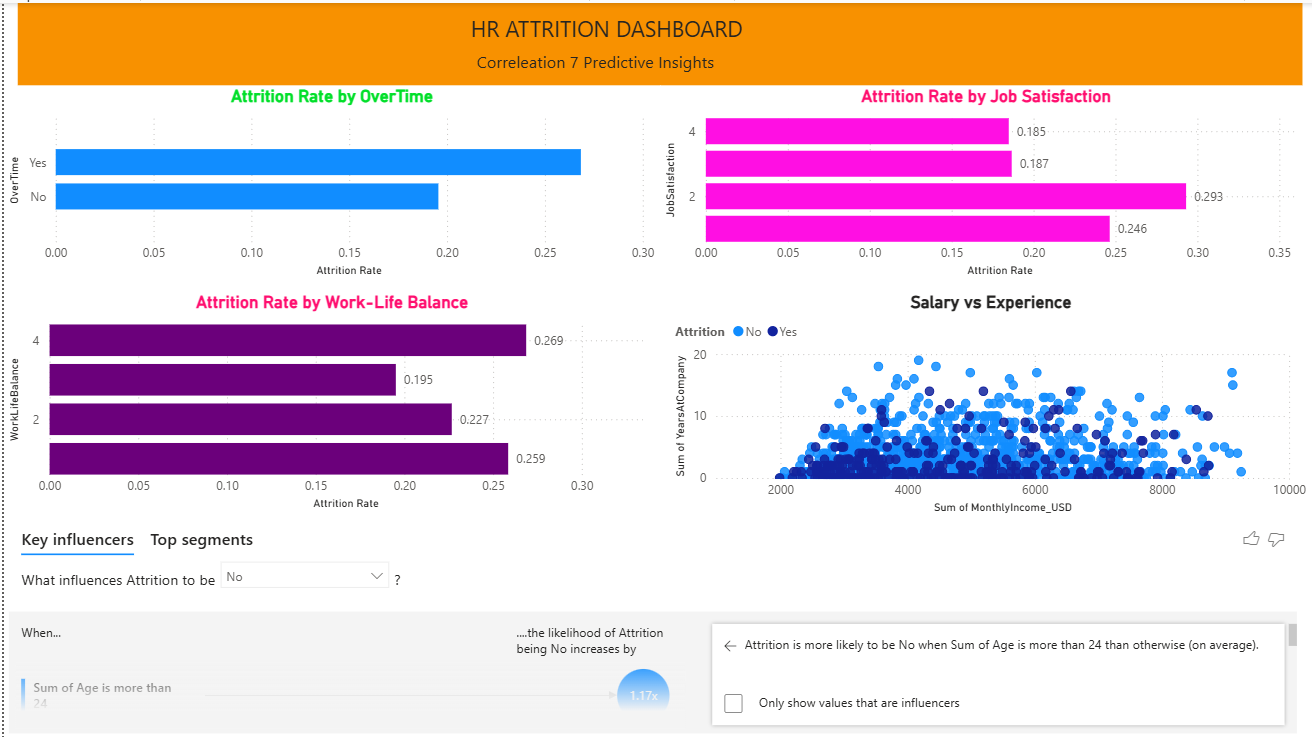

The page's visual inventory and layout, read from the dashboard file:
{"tool":"powerbi","page":{"name":"Correlation & Predictive Insights","canvas":[1280,720],"ordinal":2},"visuals":[{"type":"textbox","box":[13,0,1256.6,80.8],"z":0},{"type":"clusteredBarChart","title":"Attrition Rate by OverTime","fields":{"Category":["EmployeeData.OverTime"],"Y":["EmployeeData.Attrition Rate"]},"box":[0,80.8,642,191.9],"z":1000},{"type":"clusteredBarChart","title":"Attrition Rate by Job Satisfaction","fields":{"Y":["EmployeeData.Attrition Rate"],"Category":["EmployeeData.JobSatisfaction"]},"box":[642,80.8,637.7,191.9],"z":2000},{"type":"clusteredBarChart","title":"Attrition Rate by Work-Life Balance","fields":{"Y":["EmployeeData.Attrition Rate"],"Category":["EmployeeData.WorkLifeBalance"]},"box":[0,282.8,642,217.9],"z":3000},{"type":"scatterChart","title":"Salary vs Experience","fields":{"X":["Sum(EmployeeData.MonthlyIncome_USD)"],"Y":["Sum(EmployeeData.YearsAtCompany)"],"Series":["EmployeeData.Attrition"],"Category":["EmployeeData.EmployeeID"]},"box":[652.1,282.8,627.6,222.2],"z":4000},{"type":"keyDriversVisual","fields":{"Target":["EmployeeData.Attrition"],"ExplainBy":["Sum(EmployeeData.Age)","EmployeeData.Gender","EmployeeData.JobRole","Sum(EmployeeData.MonthlyIncome_USD)","Sum(EmployeeData.YearsAtCompany)","EmployeeData.OverTime","Sum(EmployeeData.JobSatisfaction)","Sum(EmployeeData.WorkLifeBalance)","EmployeeData.MaritalStatus","EmployeeData.Age Group","EmployeeData.Tenure Bucket"]},"box":[0,500.6,1269.6,219.3],"z":5000}]}

Visuals, with their boxes on the page's 1280x720 design canvas (x1, y1, x2, y2). These are canvas units, not pixel positions in the 1312x737 screenshot, which may show the page scaled, cropped or inside an application window:
textbox: [13, 0, 1270, 81]
"Attrition Rate by OverTime" clusteredBarChart: [0, 81, 642, 273]
"Attrition Rate by Job Satisfaction" clusteredBarChart: [642, 81, 1280, 273]
"Attrition Rate by Work-Life Balance" clusteredBarChart: [0, 283, 642, 501]
"Salary vs Experience" scatterChart: [652, 283, 1280, 505]
keyDriversVisual - EmployeeData.Attrition x Sum(EmployeeData.Age): [0, 501, 1270, 720]
